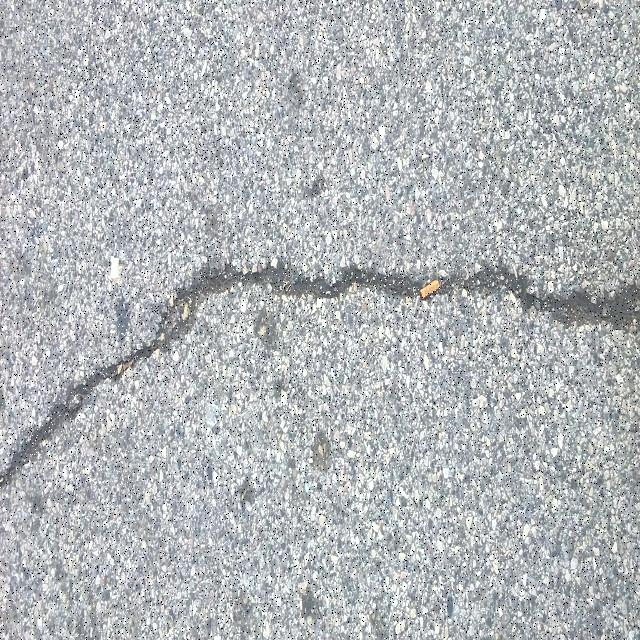Crack: (0, 262, 640, 491)
